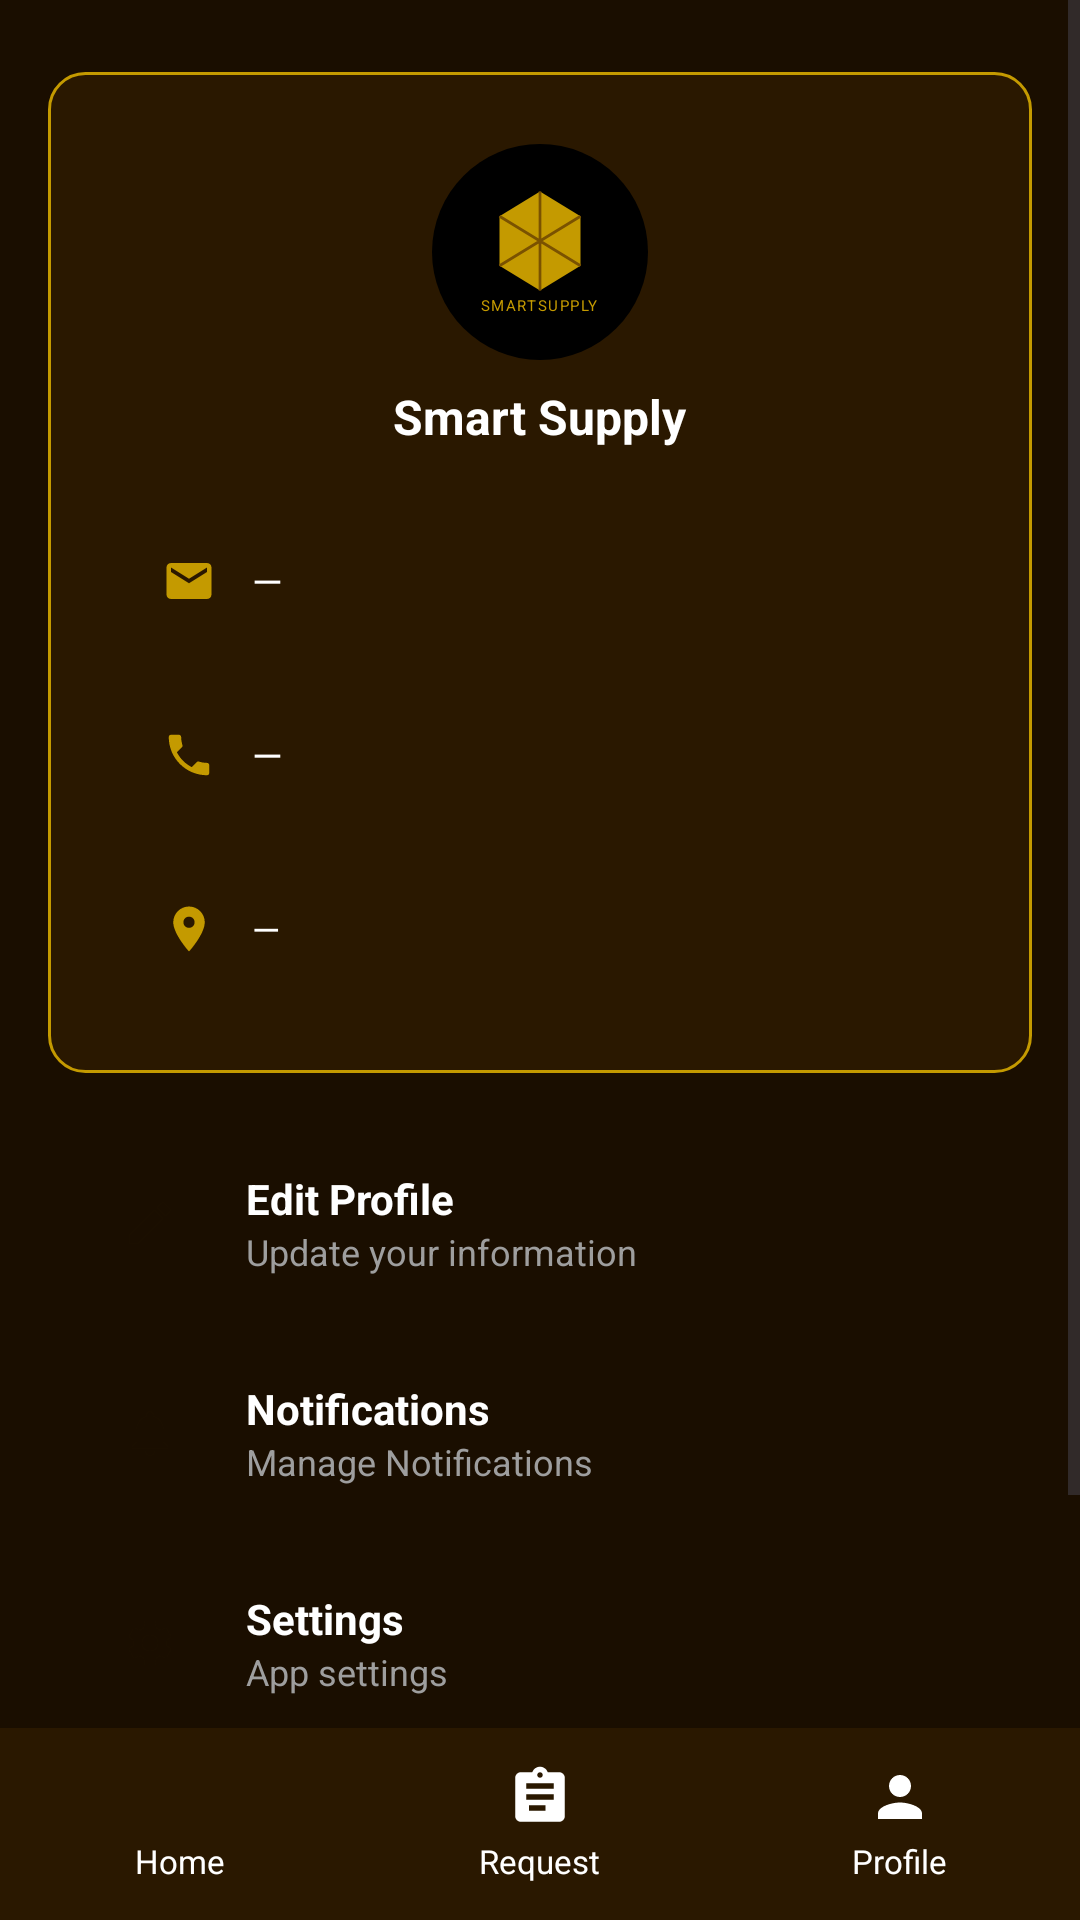

Icons on this 1080 × 1920 Android screen, each with its box as Rect(x1, y1, x2, y2):
email: Rect(166, 563, 212, 599)
location: Rect(173, 906, 205, 951)
phone: Rect(168, 734, 210, 776)
